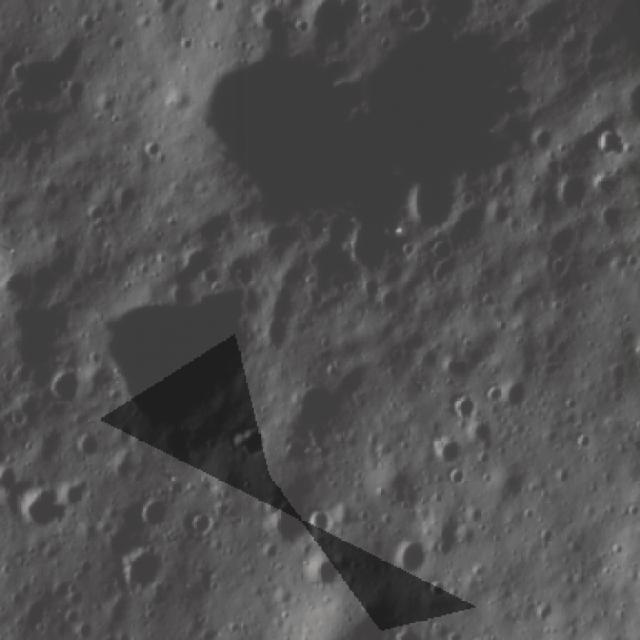crater: (89, 281, 260, 434), (6, 28, 86, 112), (397, 170, 463, 239), (104, 538, 168, 604), (337, 206, 395, 277), (263, 487, 314, 551), (15, 484, 66, 536), (168, 238, 222, 285), (550, 162, 596, 216), (542, 217, 586, 265), (386, 534, 432, 578), (132, 488, 177, 530), (306, 547, 348, 591), (426, 432, 468, 476), (230, 420, 278, 457), (60, 469, 100, 513), (590, 199, 628, 241), (2, 262, 40, 304), (244, 4, 285, 42), (458, 416, 496, 456), (523, 123, 563, 160), (43, 369, 82, 406), (501, 374, 536, 414), (304, 499, 336, 541), (159, 82, 196, 118), (594, 125, 632, 160), (105, 182, 138, 221), (486, 162, 523, 196), (396, 6, 432, 36), (591, 172, 623, 205), (72, 430, 106, 461), (184, 508, 216, 540), (449, 392, 480, 423), (82, 194, 107, 231), (422, 576, 448, 609), (141, 134, 168, 164), (552, 459, 573, 490), (444, 464, 468, 490), (532, 596, 554, 622), (481, 382, 502, 406)
